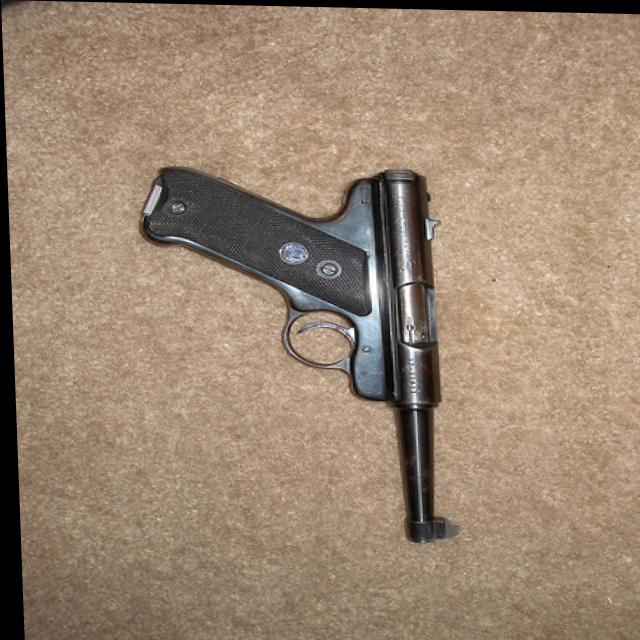handgun: (143, 156, 456, 541)
